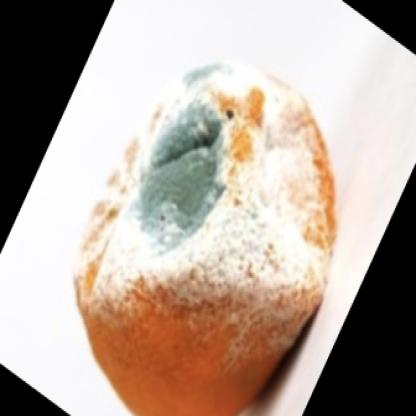rotten: (77, 63, 333, 416)
